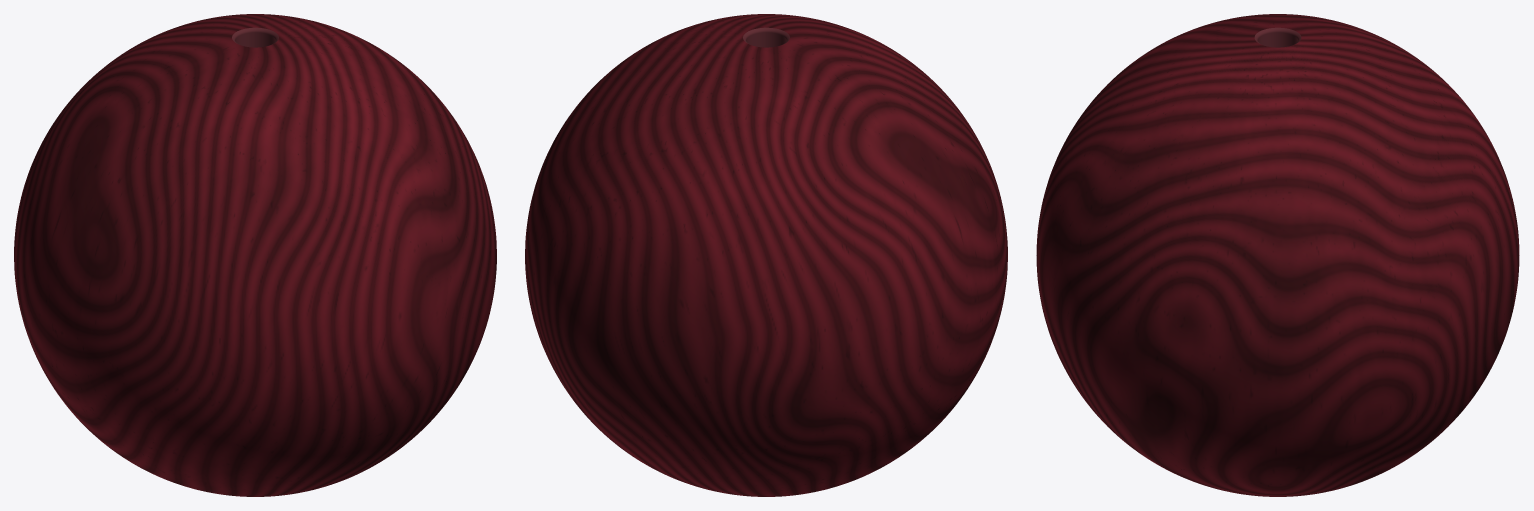
Rendered from wood-daye-zitan-12mm.glb.
The picture shows the model from 3 angles, left to right: view 1: azimuth 30°, elevation 25°; view 2: azimuth 150°, elevation 25°; view 3: azimuth 270°, elevation 25°; orthographic projection.
Visible parts, largest first — view 1: daye-zitan; view 2: daye-zitan; view 3: daye-zitan.
Boxes of the visible parts, x1=… form: daye-zitan: x1=14, y1=14, x2=496, y2=496; daye-zitan: x1=525, y1=14, x2=1007, y2=496; daye-zitan: x1=1036, y1=14, x2=1519, y2=496.
Bounding box in the file's own units: 0.012 × 0.0119 × 0.012.
2 materials, 1 textured.
